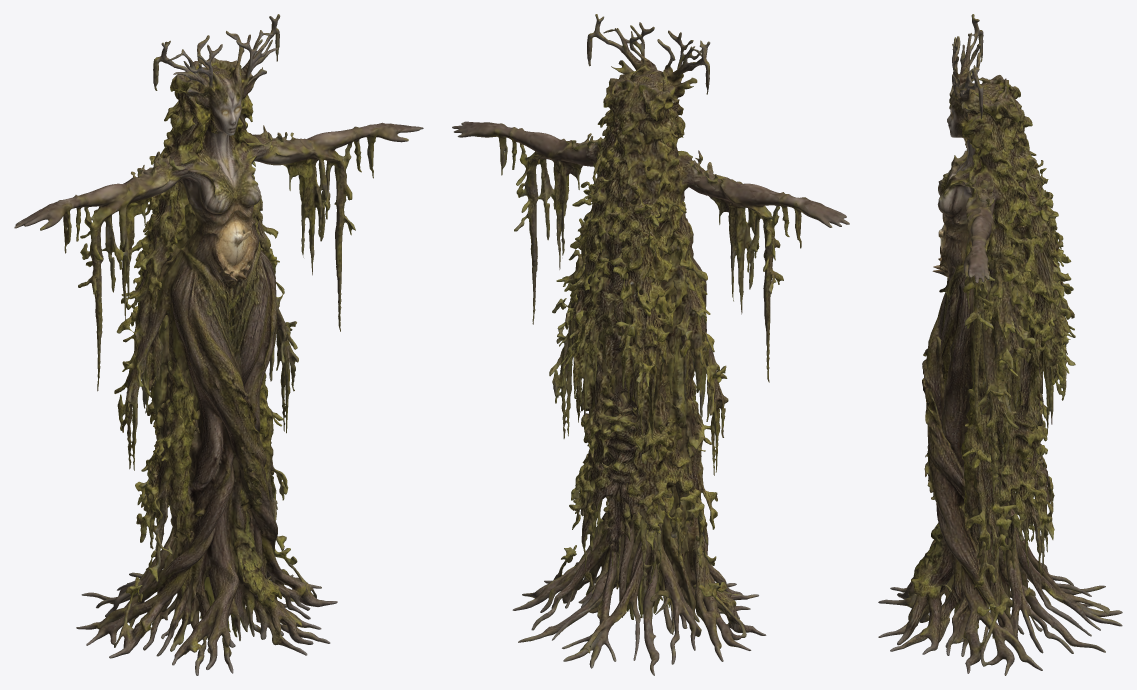
The model's file is mournwillow-guardian.glb.
3 views of the same model, side by side, from view 1: azimuth 30°, elevation 25°; view 2: azimuth 150°, elevation 25°; view 3: azimuth 270°, elevation 25° (orthographic). The views are drawn at different scales.
Bounding box in the file's own units: 1.35 × 1.9 × 0.7262.
Materials: 1 (1 with a texture image).
